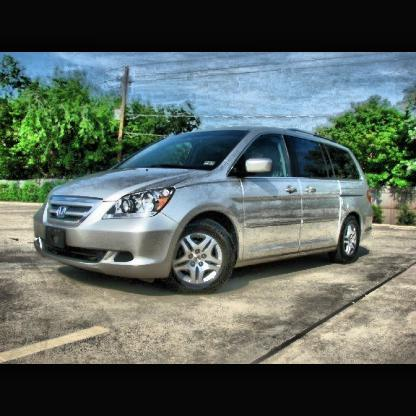Honda Odyssey Minivan 2007: (33, 125, 377, 298)
